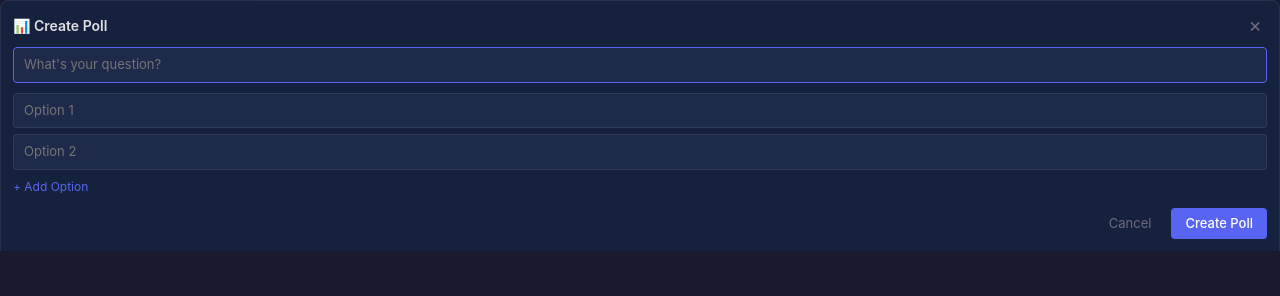
Test case: PollForm › shows error when question is empty
# Fill in options but leave question empty
In the field with placeholder "Option 1": (640, 110) [13,92,1267,128], type "Red"
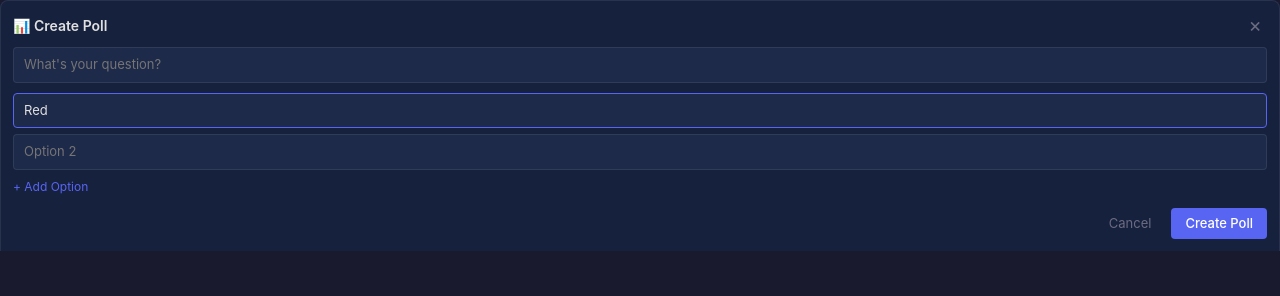
In the field with placeholder "Option 2": (640, 152) [13,134,1267,170], type "Blue"
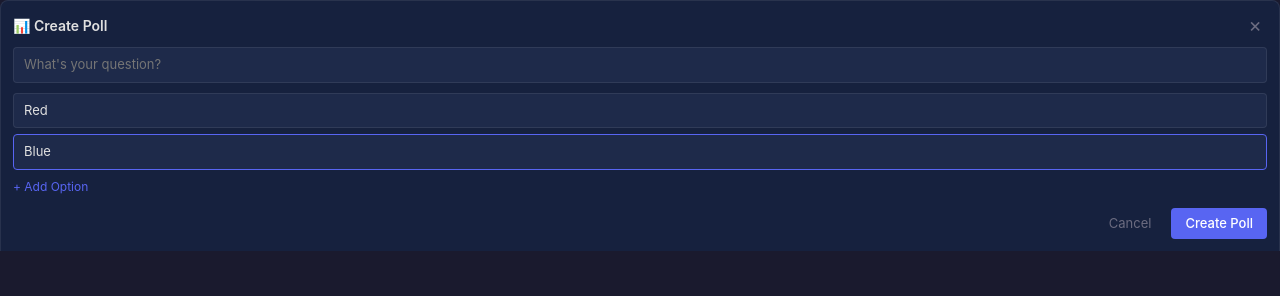
Click the button "Create Poll": (1219, 223) [1172,208,1267,239]
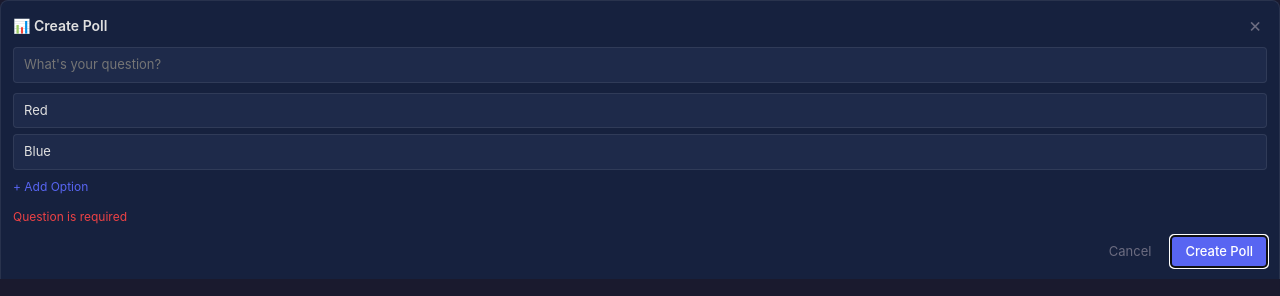
Now the text "Question is required" is shown, box [13,208,127,224]
